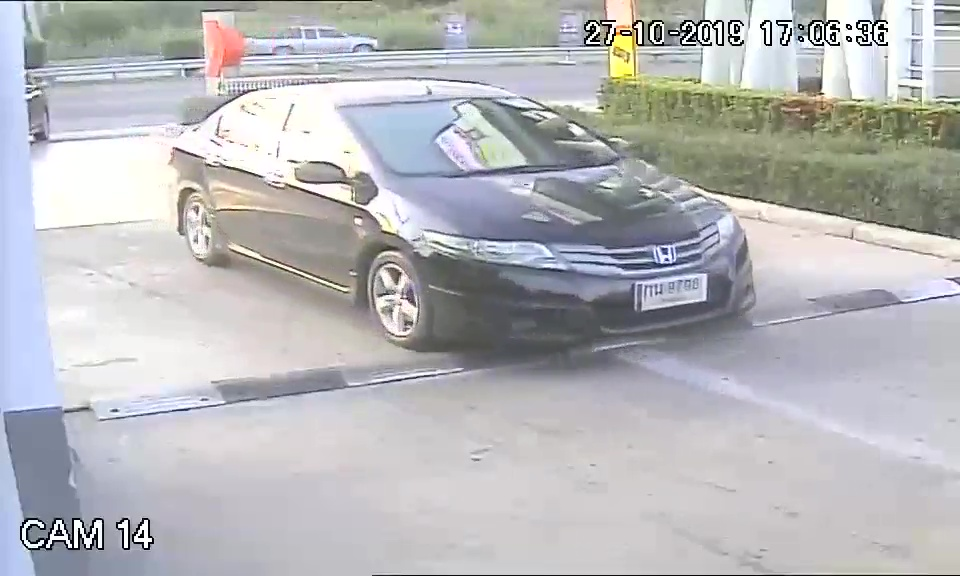sedan: (151, 74, 759, 349)
